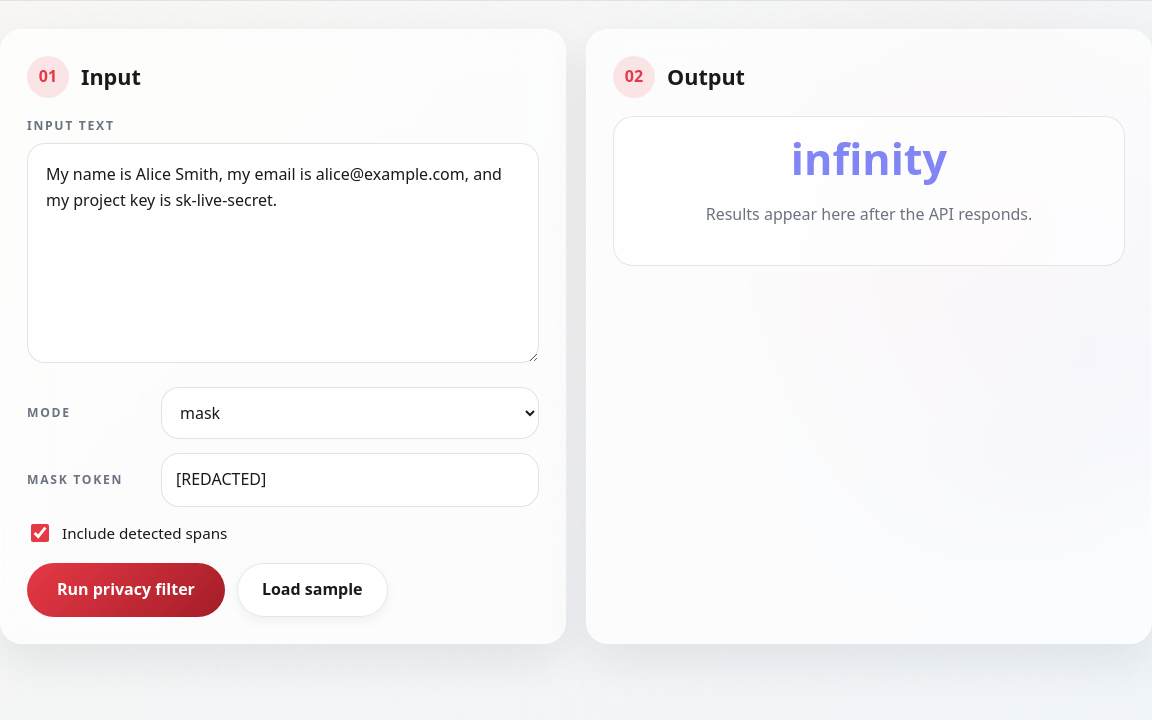
Test: FilterSandbox › renders filtered text and spans after a successful response
Click the button "Run privacy filter" at (126, 590), box [27,563,225,616]
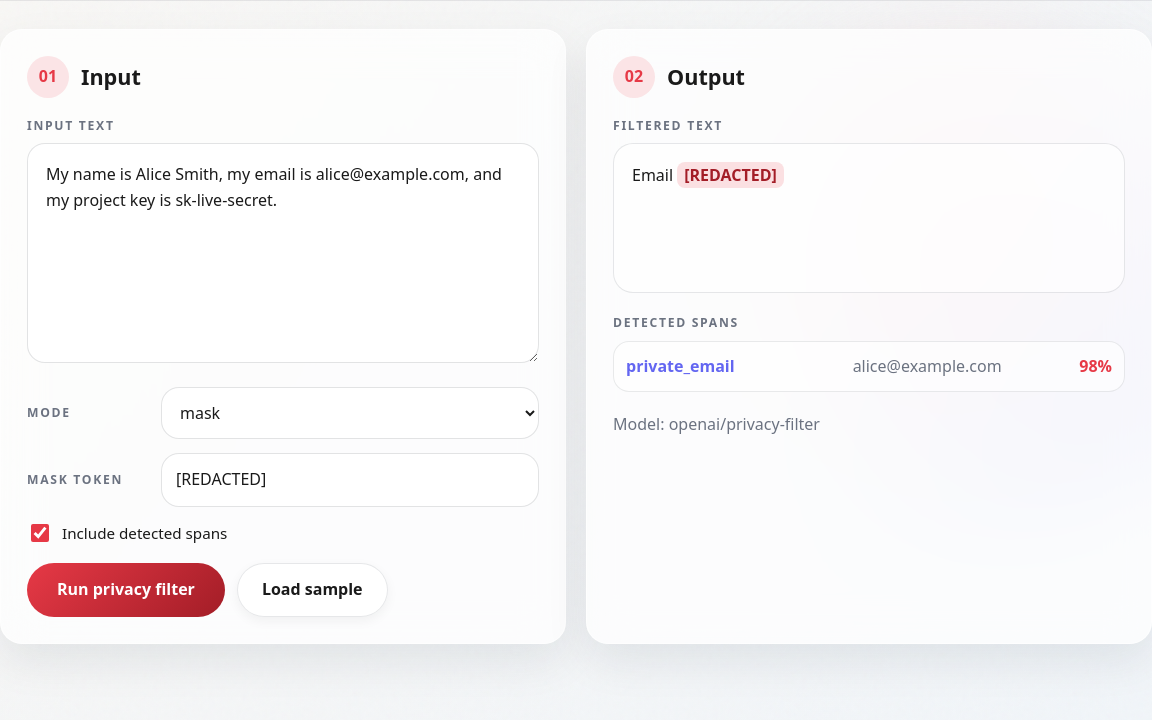
Check: the text "private_email" is shown, box [626,355,735,377]
Check: the text "[REDACTED]" is shown, box [677,162,784,188]
Check: the text "Model: openai/privacy-filter" is shown, box [613,414,820,436]
